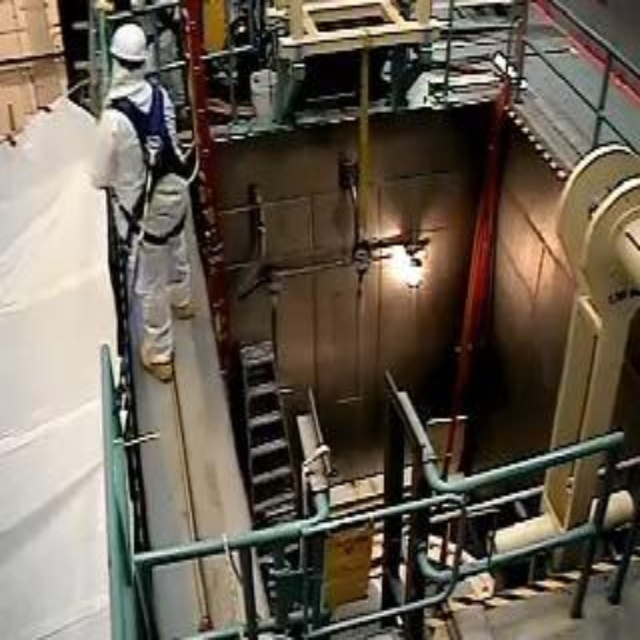Arnes_seguridad: (102, 91, 194, 250)
